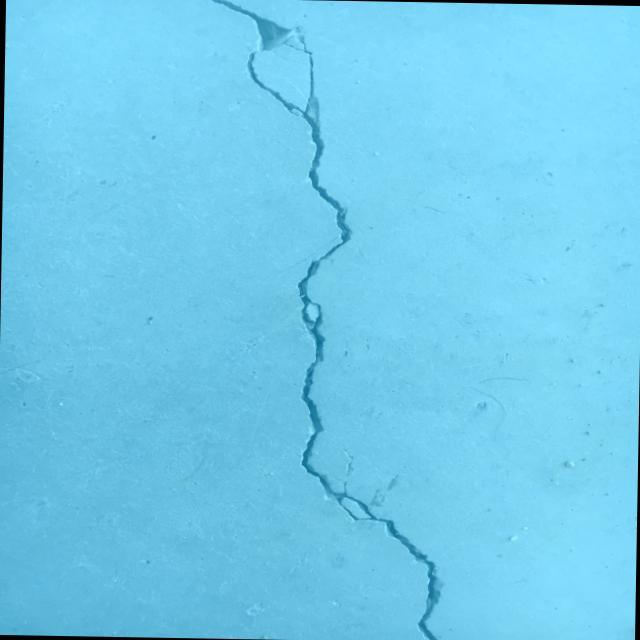crack: (197, 0, 454, 640)
